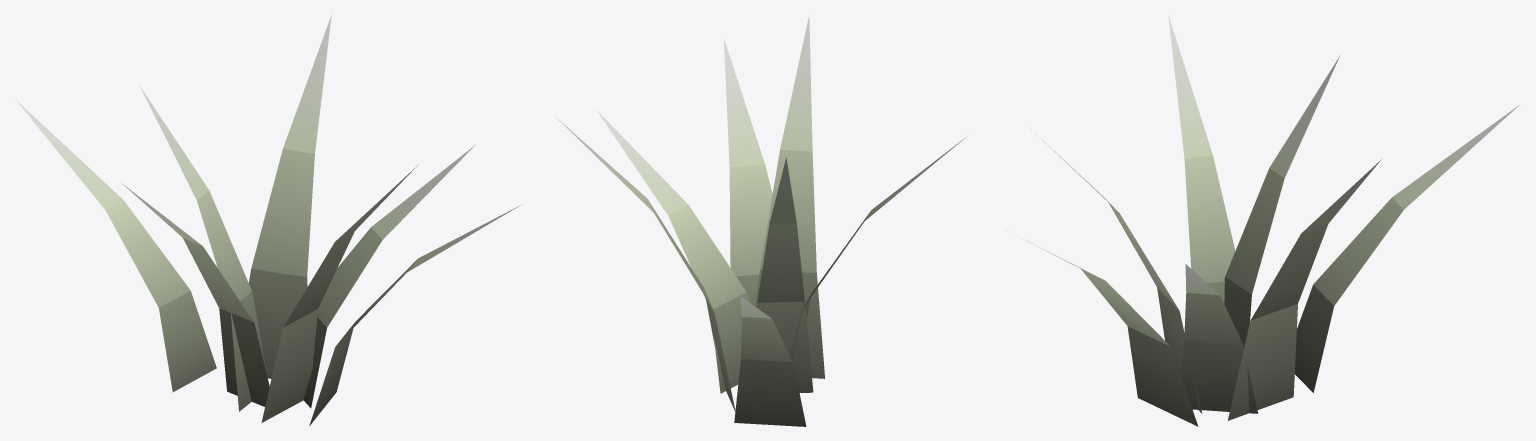
The model's file is x_grass.glb.
The picture shows the model from 3 angles, left to right: view 1: azimuth 30°, elevation 25°; view 2: azimuth 150°, elevation 25°; view 3: azimuth 270°, elevation 25°; orthographic projection. The views are drawn at different scales.
Visible parts, largest first — view 1: grass; view 2: grass; view 3: grass.
Part boxes in pixels (bbox=[...]): grass: bbox=[15, 15, 522, 425]; grass: bbox=[555, 15, 967, 426]; grass: bbox=[1016, 15, 1519, 426].
Bounding box in the file's own units: 0.5111 × 0.3936 × 0.5989.
